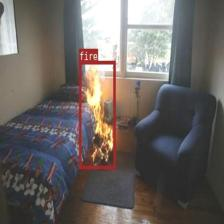fire: (79, 60, 115, 168)
